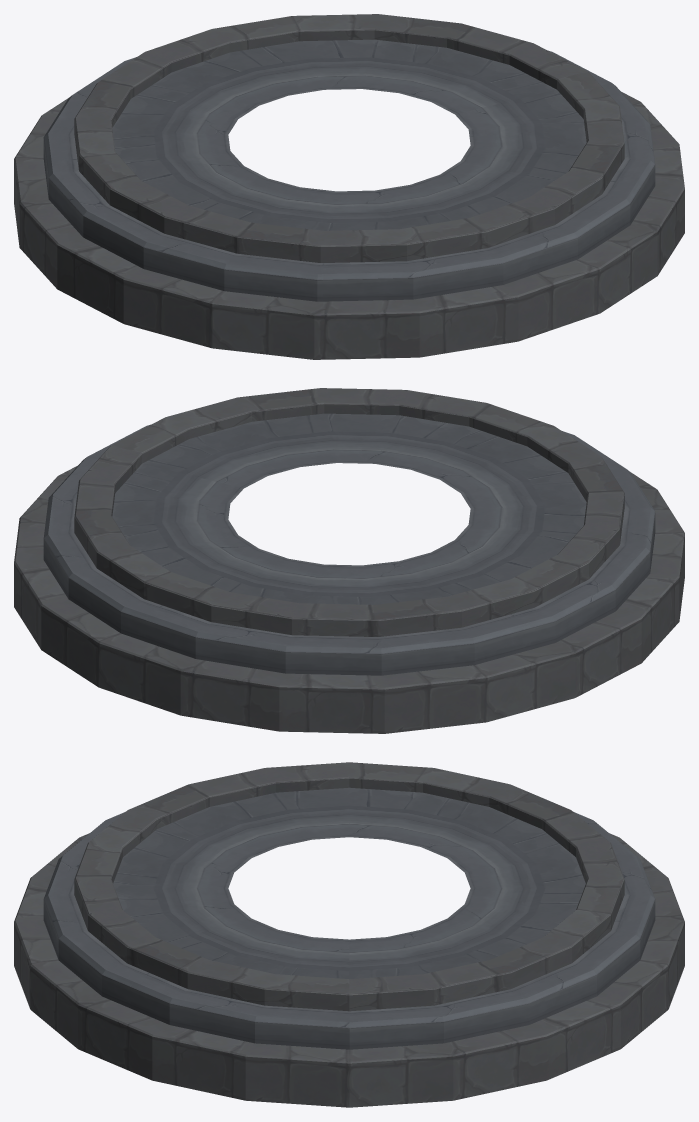
Rendered from SM_ManaPool_Dais_01.fbx.
3 views of the same model, one above another, from view 1: azimuth 30°, elevation 25°; view 2: azimuth 150°, elevation 25°; view 3: azimuth 270°, elevation 25° (orthographic).
Parts seen in each view (by area): view 1: SM_Dais_01; view 2: SM_Dais_01; view 3: SM_Dais_01.
Part boxes in pixels (bbox=[...]): SM_Dais_01: bbox=[14, 14, 684, 359]; SM_Dais_01: bbox=[14, 388, 684, 733]; SM_Dais_01: bbox=[14, 762, 684, 1107].
Bounding box in the file's own units: 721 × 104 × 721.
